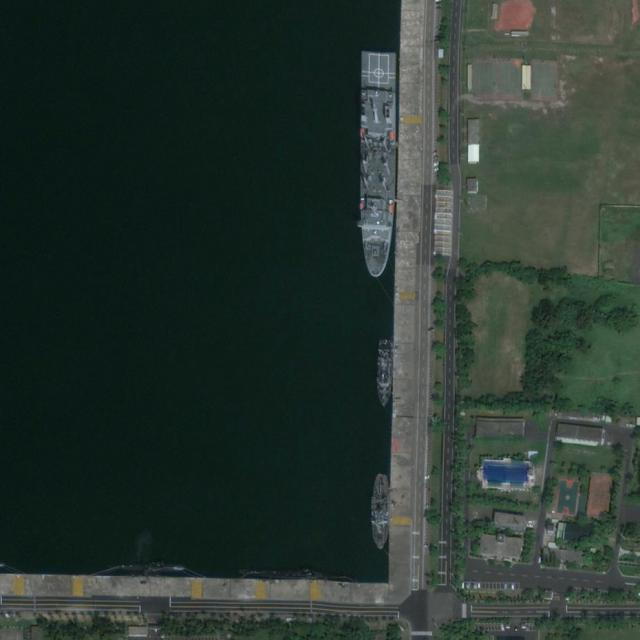Commander: (359, 48, 398, 279)
Other Warship: (372, 473, 390, 553), (378, 339, 393, 408)
Submarine: (242, 569, 354, 580), (111, 562, 185, 569)
